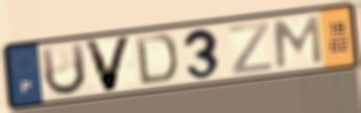3: (181, 25, 227, 83)
D: (133, 32, 180, 87)
M: (272, 14, 325, 70)
U: (38, 40, 89, 99)
V: (81, 34, 135, 95)
Z: (226, 19, 274, 77)
